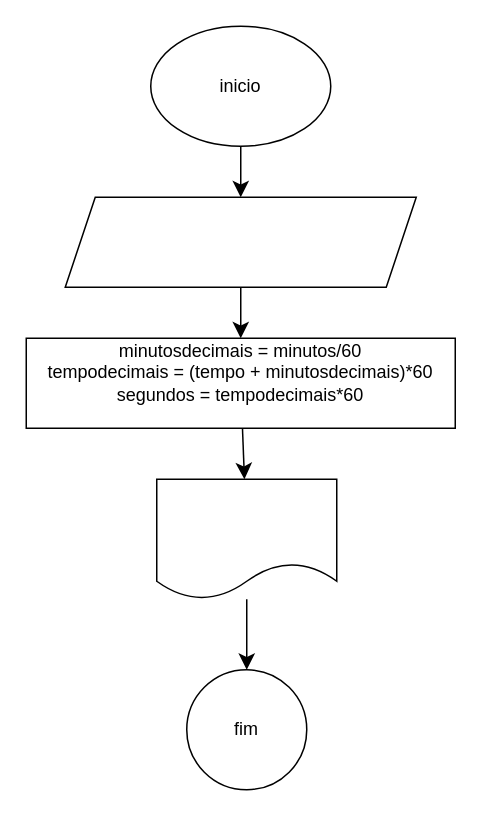
This 482x816 diagram has some shape labels left out. Each missing label, with the centre of its shape:
"horas = horas para conversao minutos = minutos para conversao" belongs at point (240, 241).
"segundos" belongs at point (246, 538).
